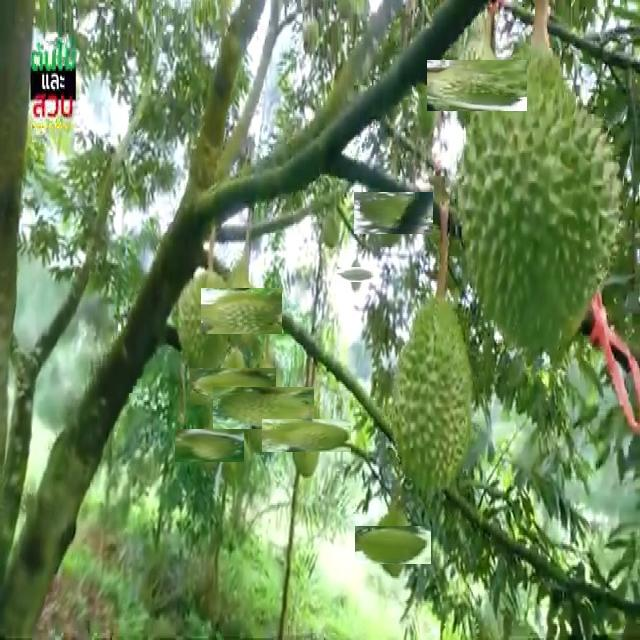durian: (454, 41, 624, 368), (390, 290, 474, 503), (173, 266, 234, 384), (439, 47, 515, 123), (228, 372, 300, 444), (209, 278, 274, 342), (202, 355, 264, 417), (276, 405, 338, 466), (363, 183, 424, 243), (365, 516, 422, 573), (184, 420, 236, 471), (320, 209, 344, 252), (343, 261, 369, 288)
